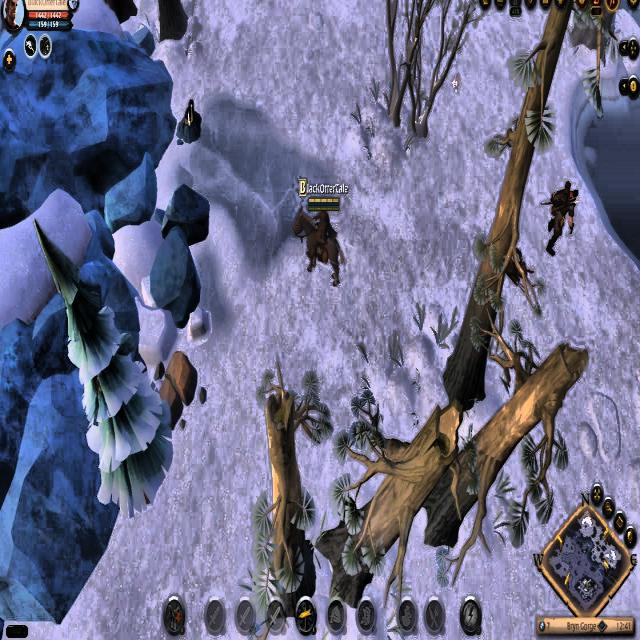copperore: (175, 99, 205, 148)
limestone: (153, 346, 195, 434)
